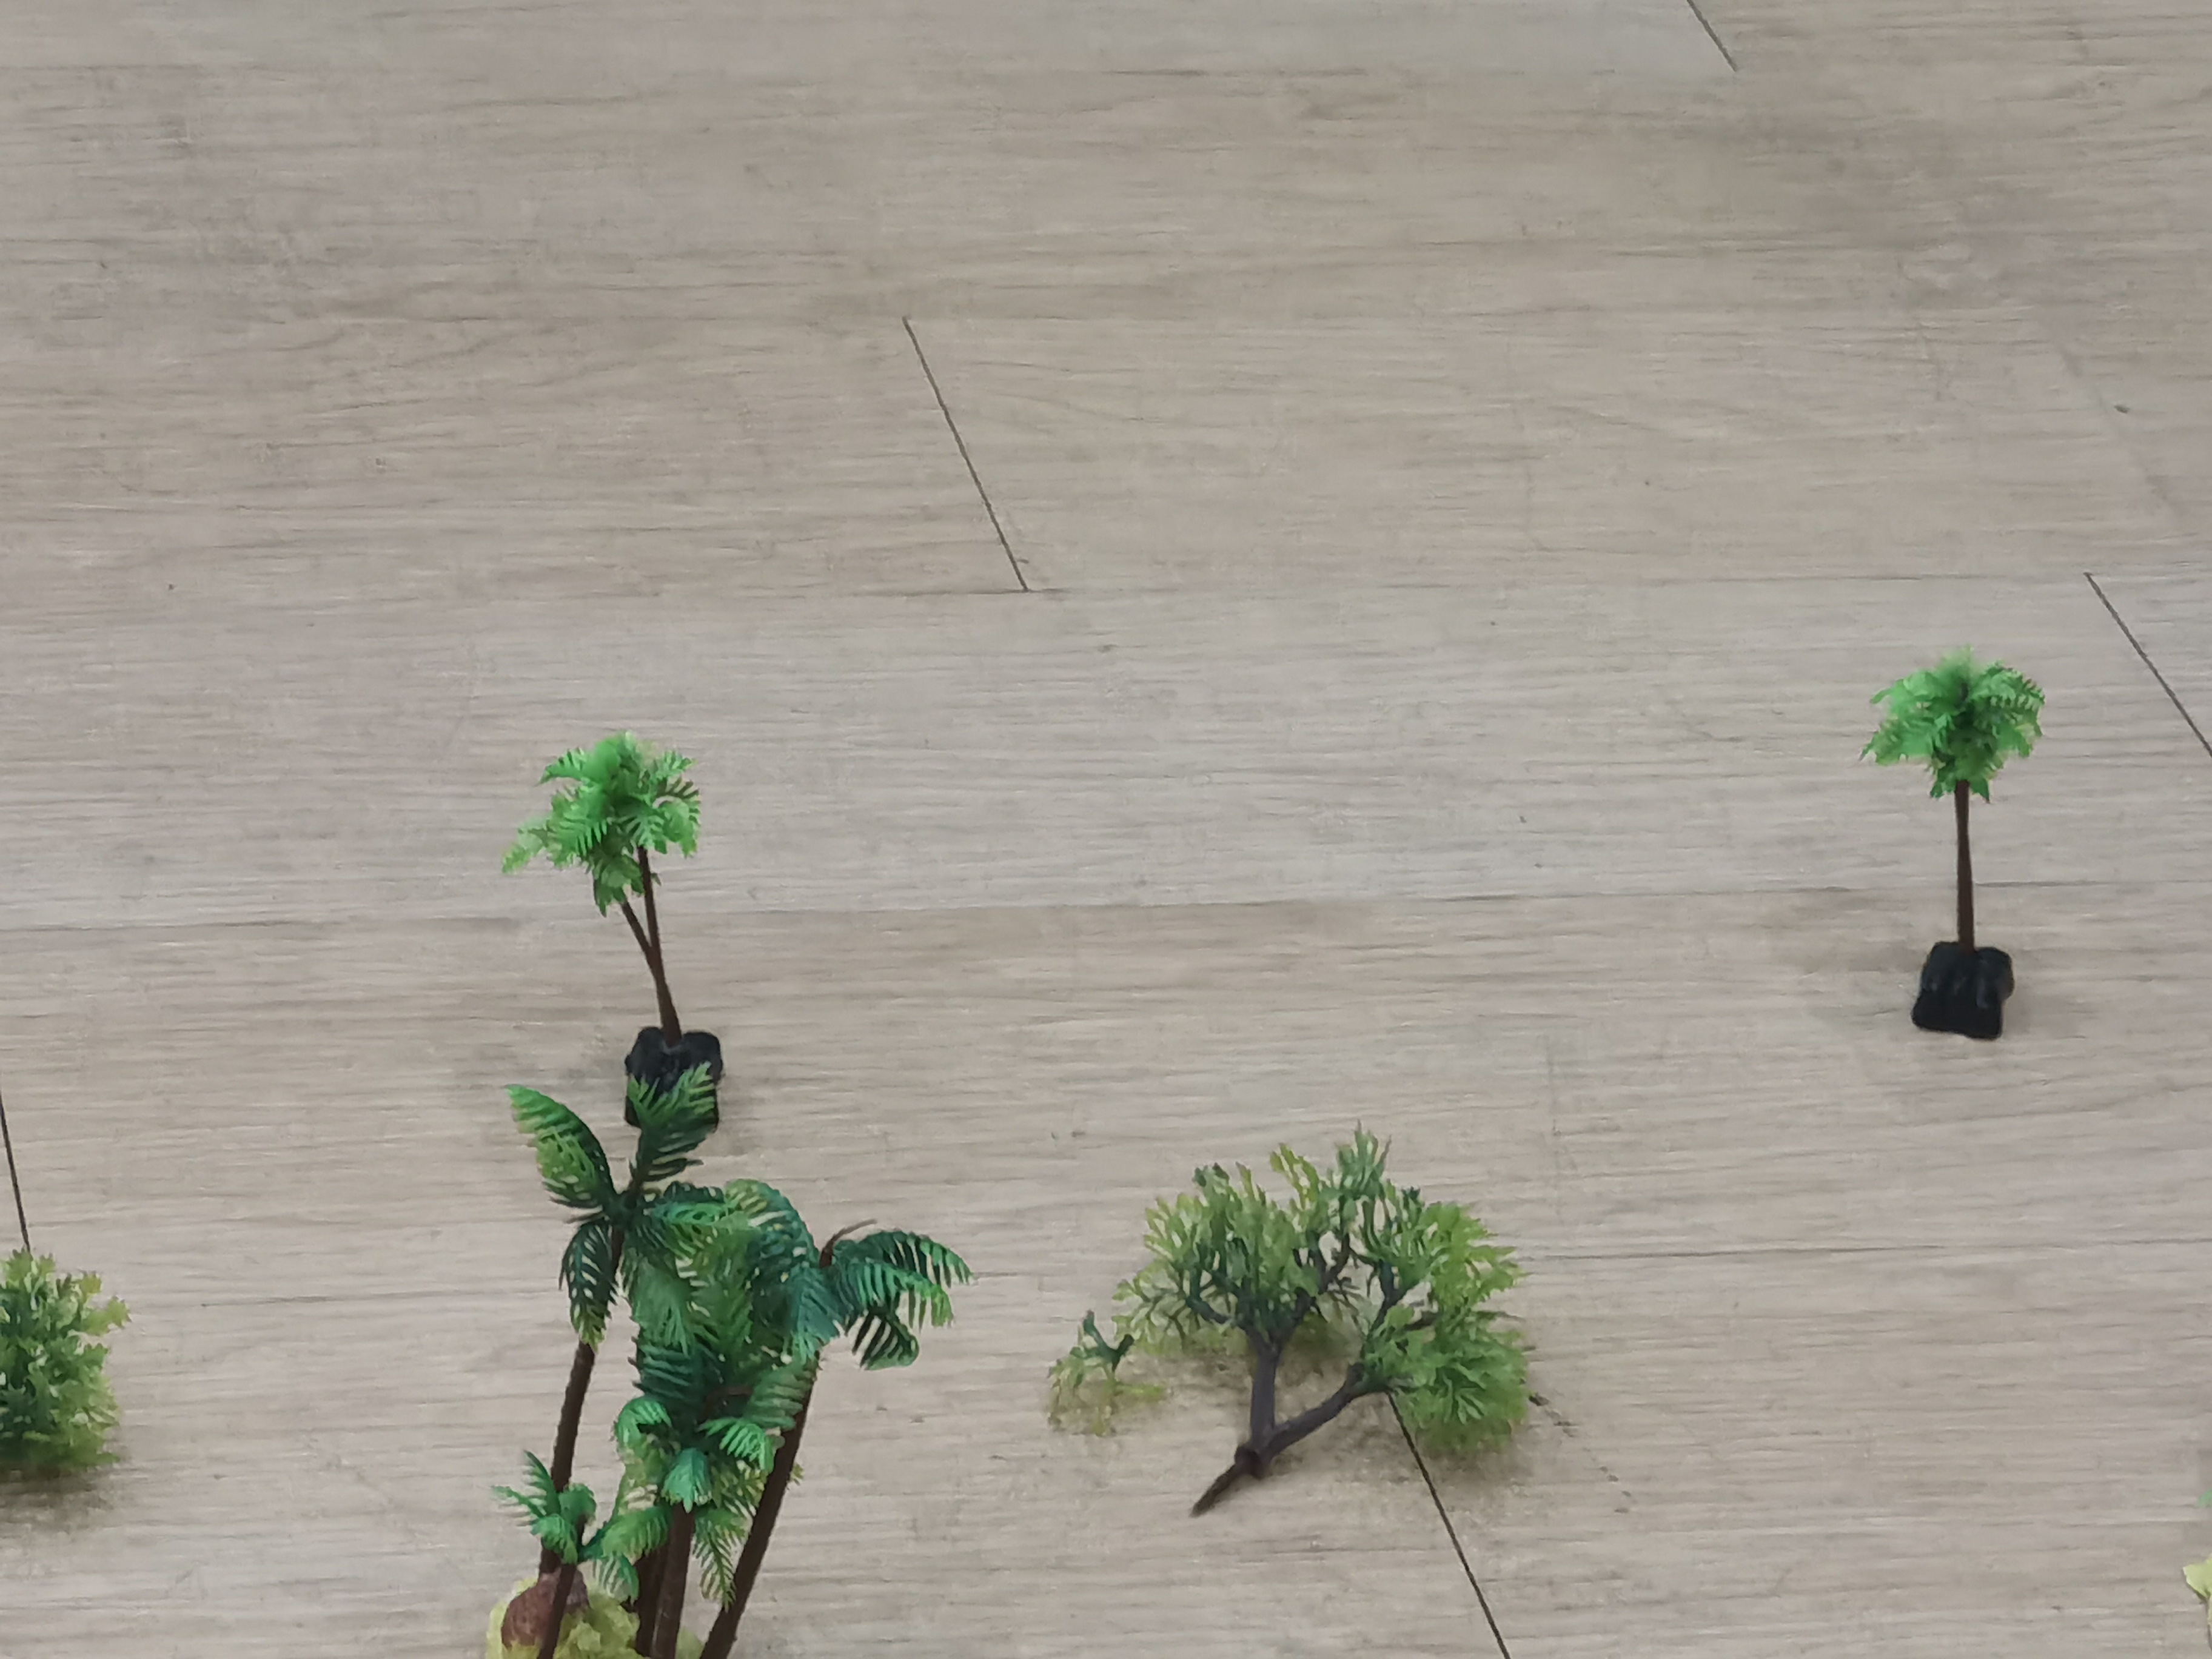corn: (442, 1072, 970, 1657), (500, 721, 735, 1131), (1855, 648, 2038, 1051)
